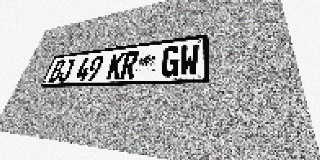4: (74, 56, 93, 81)
9: (85, 55, 105, 81)
B: (48, 60, 66, 82)
G: (160, 45, 181, 77)
J: (57, 58, 75, 82)
K: (106, 52, 126, 80)
R: (119, 51, 140, 79)
W: (178, 43, 199, 76)
